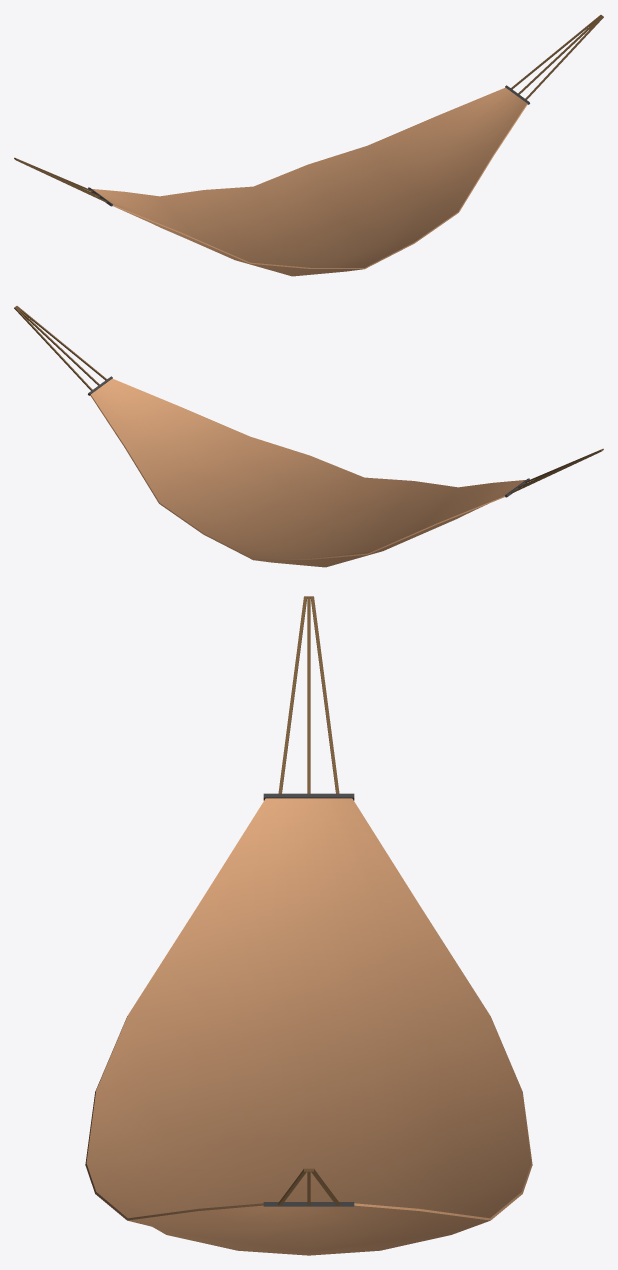
File: Hammock_01.fbx
3 renders of one model, top to bottom at view 1: azimuth 30°, elevation 25°; view 2: azimuth 150°, elevation 25°; view 3: azimuth 270°, elevation 25°, orthographic. The views are drawn at different scales.
Visible parts, largest first — view 1: Hammock_01_LOD0; view 2: Hammock_01_LOD0; view 3: Hammock_01_LOD0.
Boxes of the visible parts, x1,y1,x2,y2 form: Hammock_01_LOD0: (14,15,603,276); Hammock_01_LOD0: (14,306,603,567); Hammock_01_LOD0: (85,596,532,1255).
Size of what is drawn, in the model's own units: 2.82 by 0.7698 by 0.9308.
